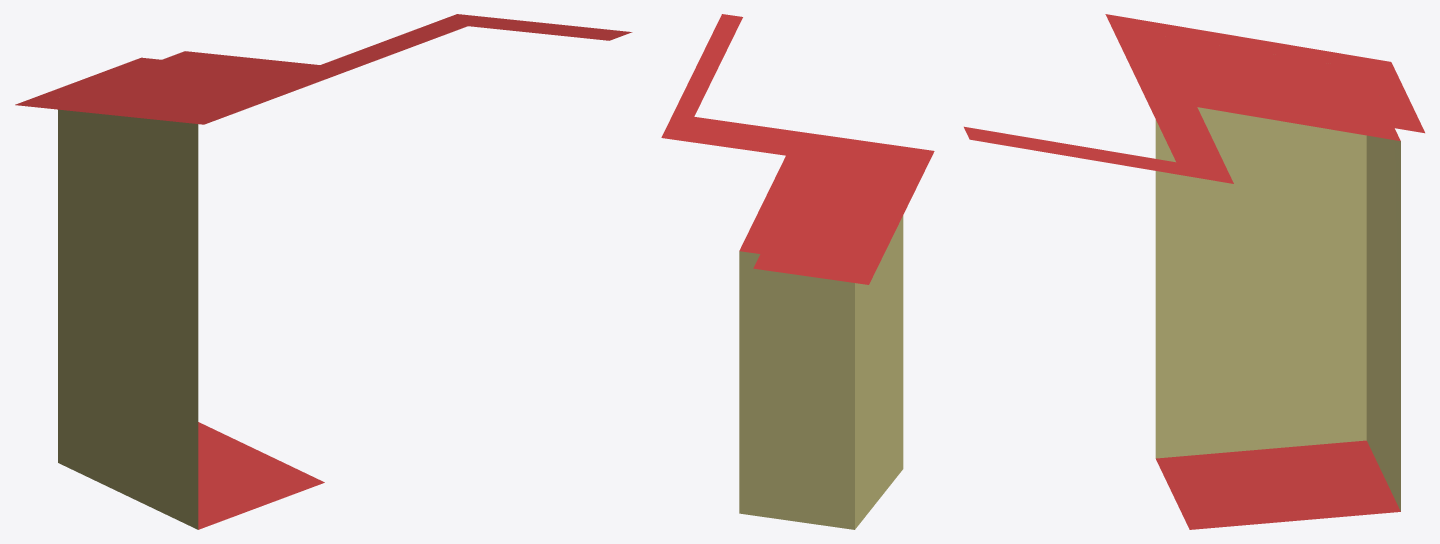
The picture shows the model from 3 angles, left to right: view 1: azimuth 30°, elevation 25°; view 2: azimuth 150°, elevation 25°; view 3: azimuth 270°, elevation 25°; orthographic projection. The views are drawn at different scales.
Bounding box in the file's own units: 7.66 × 7.33 × 8.56.
